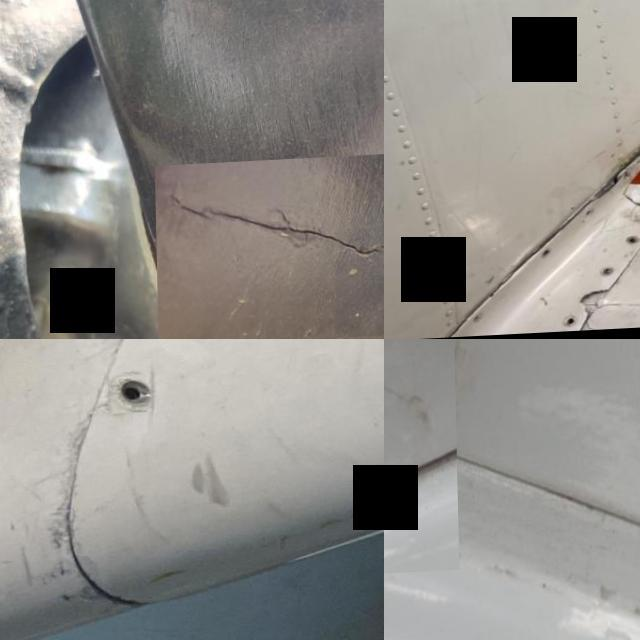Crack: (153, 153, 384, 339), (384, 339, 457, 583), (580, 111, 640, 200), (569, 292, 620, 321), (413, 315, 471, 339)
Missing_Fastener: (108, 376, 151, 416), (560, 320, 576, 330), (536, 252, 552, 262), (624, 242, 636, 248)
